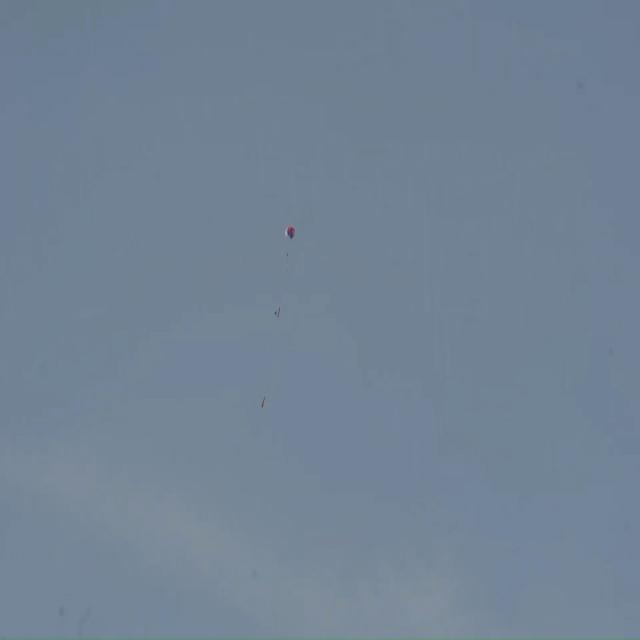Rocket: (262, 396, 266, 407)
